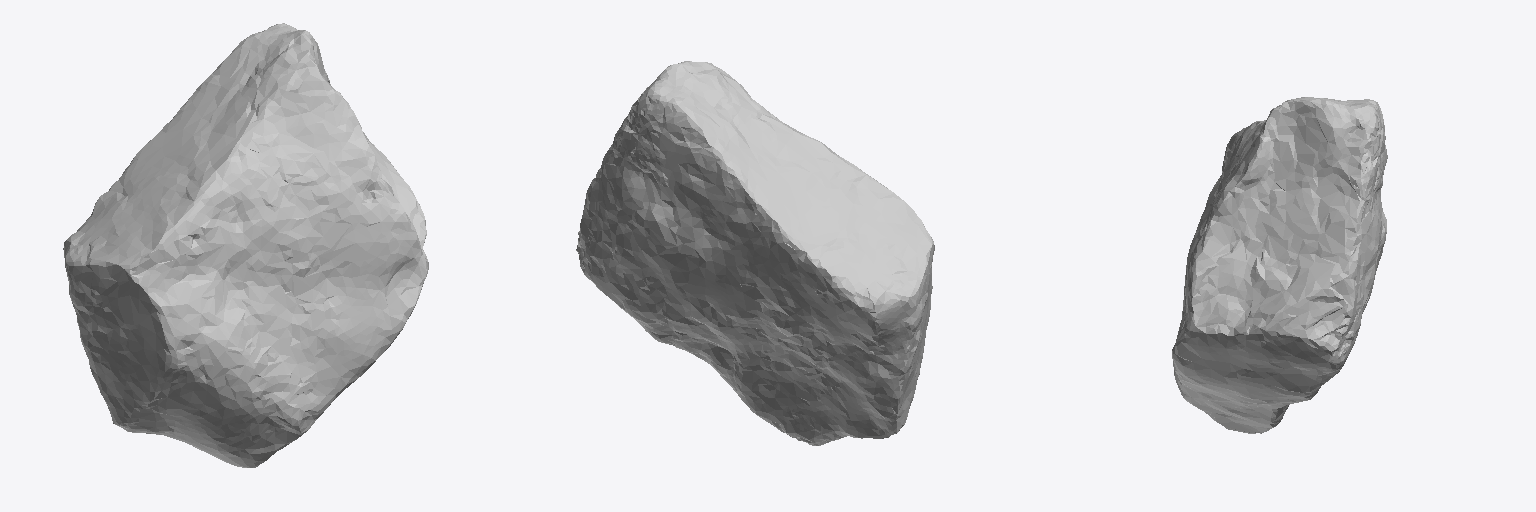
Rendered from moss_rock_08.obj.
The picture shows the model from 3 angles: view 1: azimuth 30°, elevation 25°; view 2: azimuth 150°, elevation 25°; view 3: azimuth 270°, elevation 25°; orthographic projection.
Visible parts, largest first — view 1: low; view 2: low; view 3: low.
Boxes of the visible parts, x1=… form: low: x1=63, y1=23, x2=428, y2=467; low: x1=576, y1=61, x2=934, y2=445; low: x1=1172, y1=97, x2=1387, y2=433.
Size of the model in its own units: 2.29 by 2.49 by 1.27.